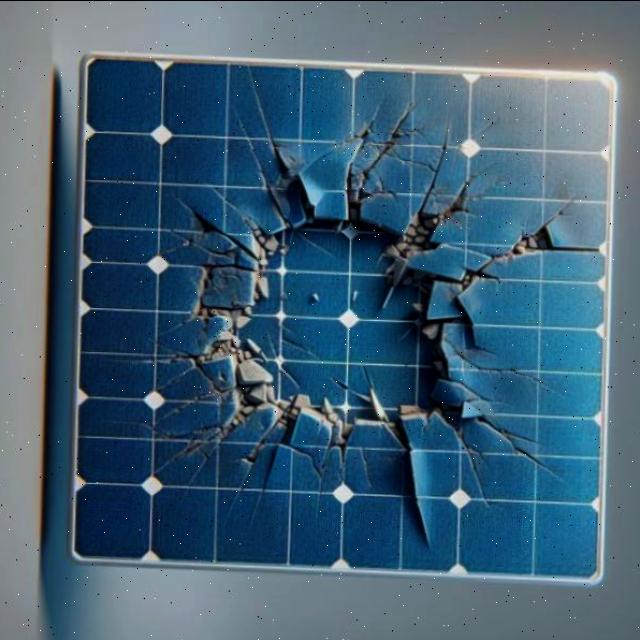Anomaly Solar Panel: (74, 58, 615, 579)
Structural Damage: (166, 157, 515, 500), (95, 327, 243, 452), (335, 93, 465, 221), (201, 406, 282, 525), (439, 336, 575, 398), (144, 413, 227, 509), (437, 401, 509, 511), (472, 407, 579, 481), (395, 181, 492, 261), (237, 109, 295, 228), (326, 87, 389, 194), (175, 196, 265, 260), (249, 63, 291, 172), (289, 442, 349, 511), (417, 115, 459, 211), (407, 448, 435, 550), (504, 222, 559, 265), (160, 228, 241, 257), (544, 188, 592, 233), (247, 489, 268, 534), (212, 182, 242, 211), (361, 445, 377, 488), (555, 241, 604, 254)
